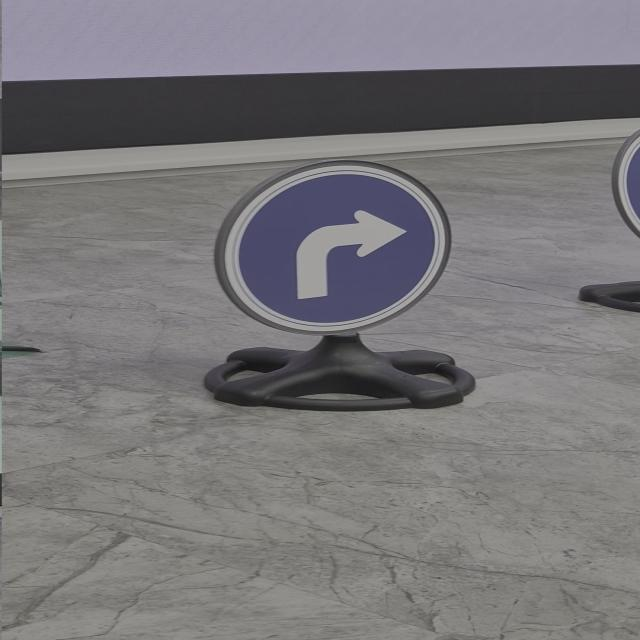right_dierection: (203, 160, 452, 338)
